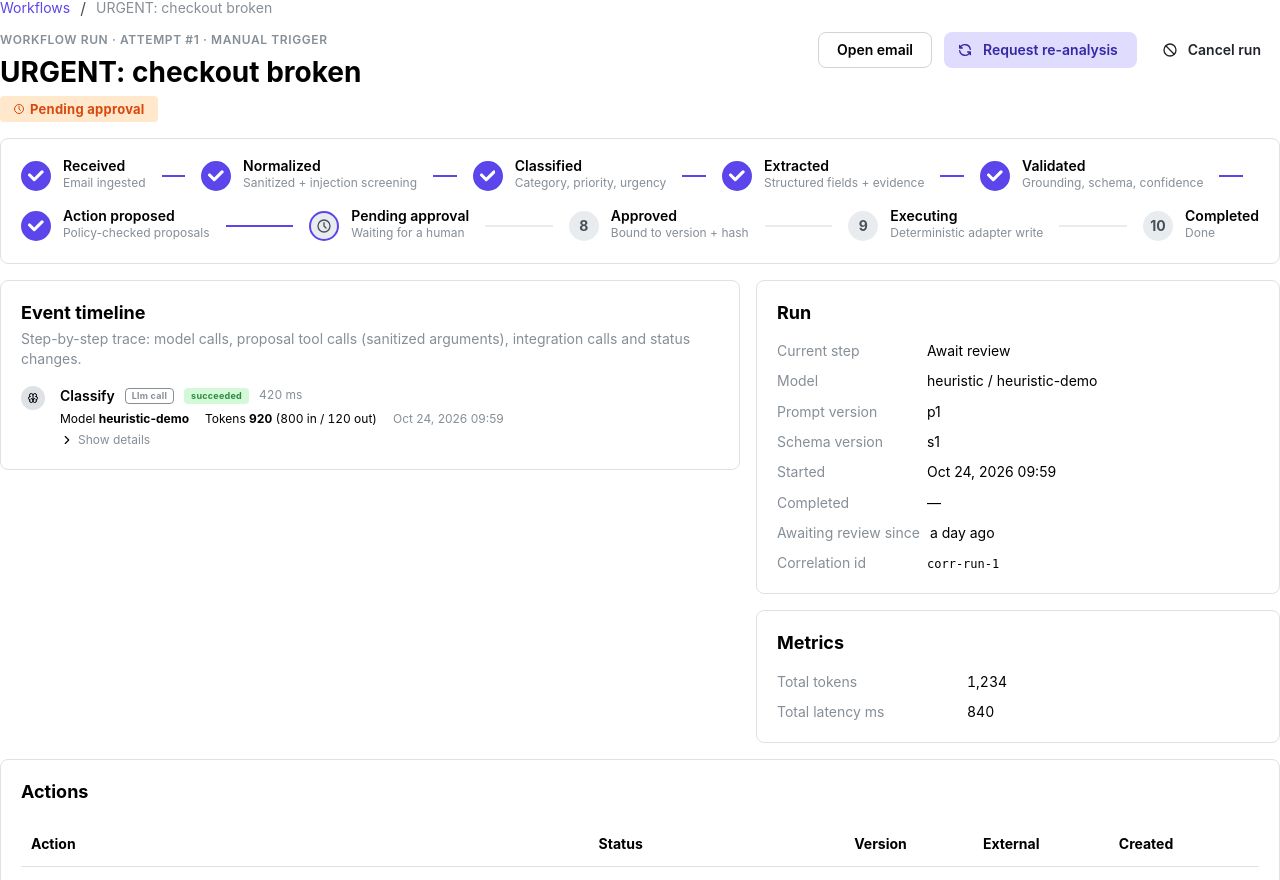
<WorkflowDetailPage> run controls › shows an error toast with the support reference when cancelling fails
Step 1. Click the button "Cancel run" → [1214, 50], box [1149,32,1279,68]
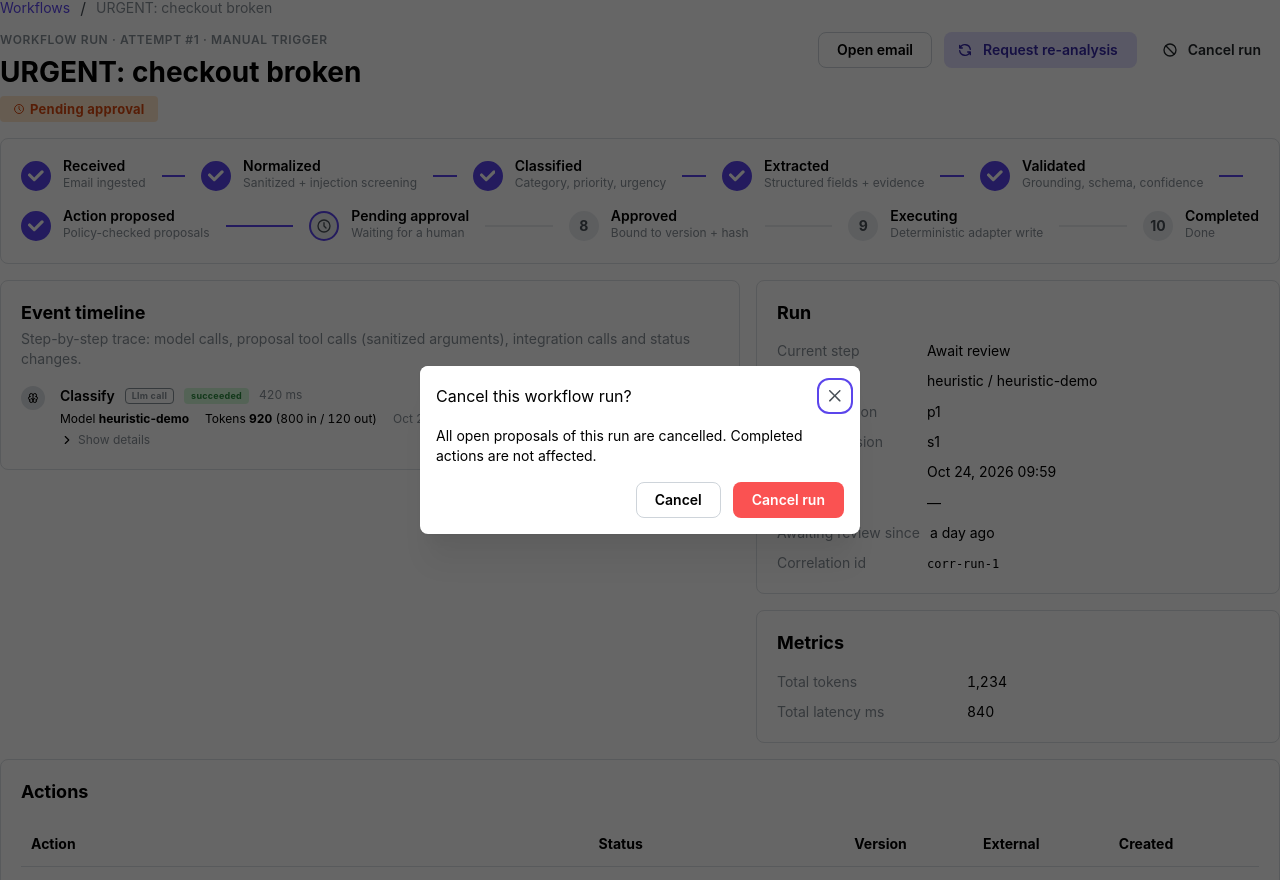
Step 2. Click the button "Cancel run" → [788, 500], box [733,482,844,518]
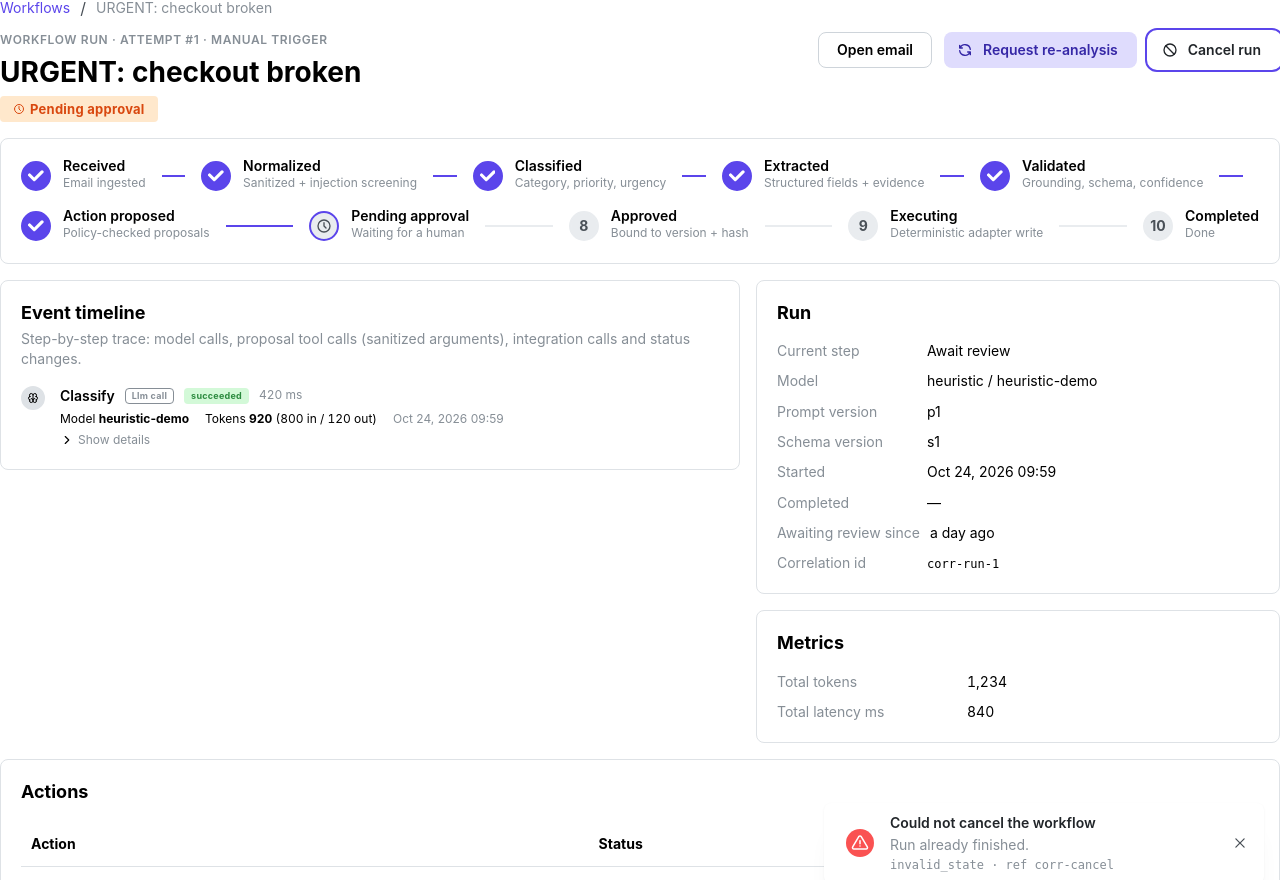
Result: the text "Could not cancel the workflow" is shown at [890,814,1096,831]
Result: the text "Run already finished." is shown at [890,836,1029,853]
Result: the text "invalid_state · ref corr-cancel" is shown at [890,858,1114,872]
